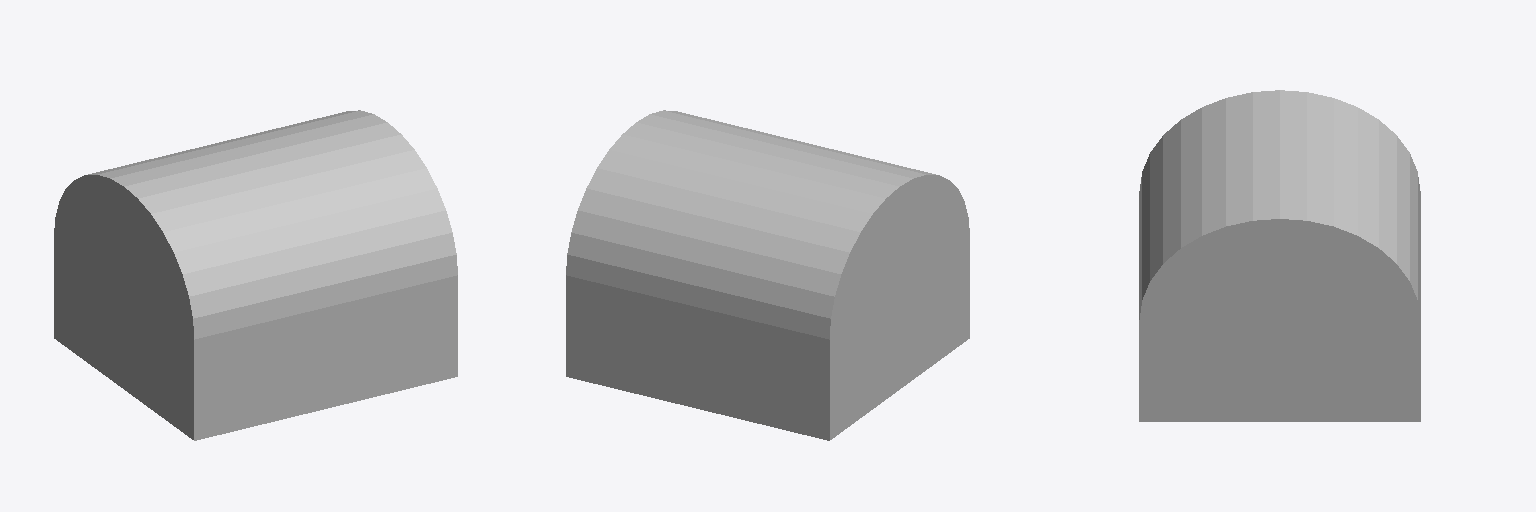
File: chest_small.obj
3 renders of one model, left to right at view 1: azimuth 30°, elevation 25°; view 2: azimuth 150°, elevation 25°; view 3: azimuth 270°, elevation 25°, orthographic.
Visible parts, largest first — view 1: Cylinder; view 2: Cylinder; view 3: Cylinder.
Boxes of the visible parts, x1=… form: Cylinder: x1=54, y1=110, x2=457, y2=440; Cylinder: x1=566, y1=110, x2=969, y2=440; Cylinder: x1=1139, y1=90, x2=1420, y2=421.
Size of the model in its own units: 1.5 by 1.11 by 1.39.